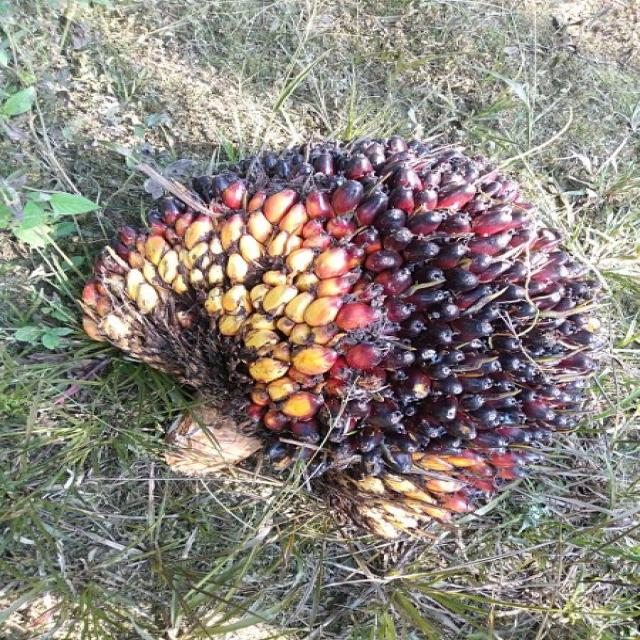fraksi 1: (61, 98, 640, 546)
